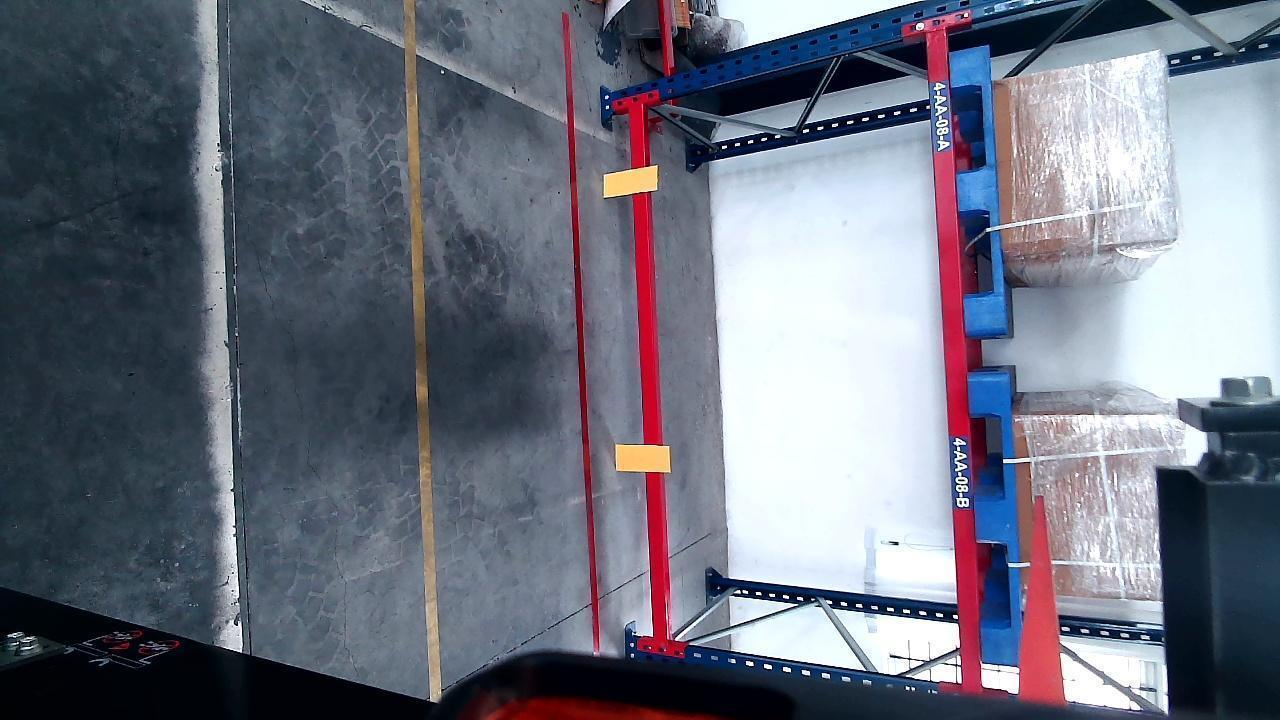red_line: (556, 9, 604, 657)
yellow_line: (405, 0, 442, 701)
